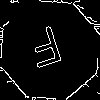F: (25, 25, 68, 78)
